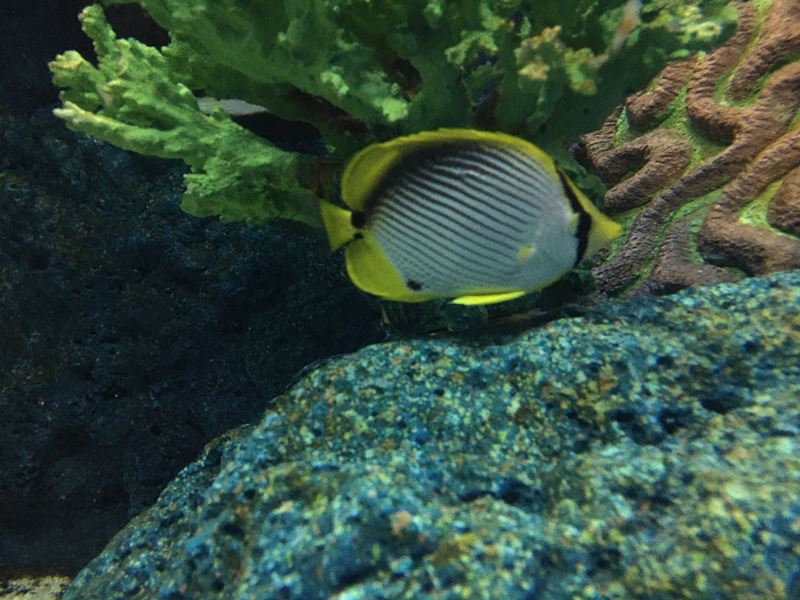Black-backed butterflyfish: (291, 116, 637, 321)
